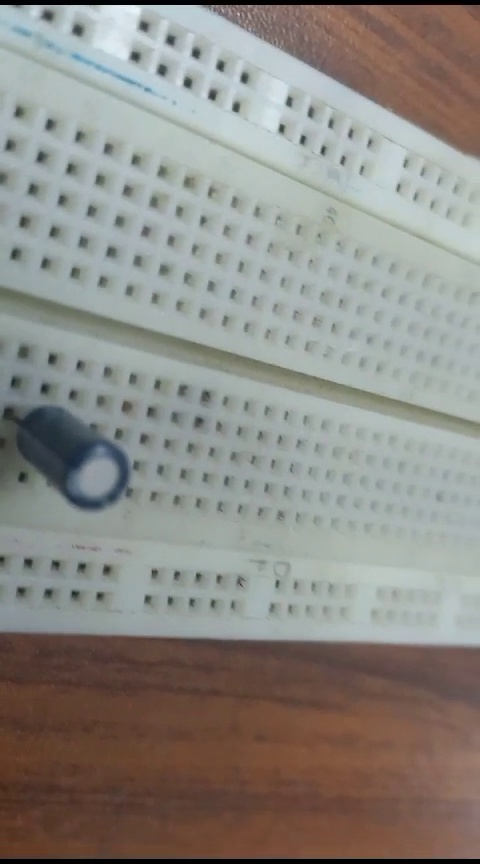capacitor: (22, 375, 136, 513)
